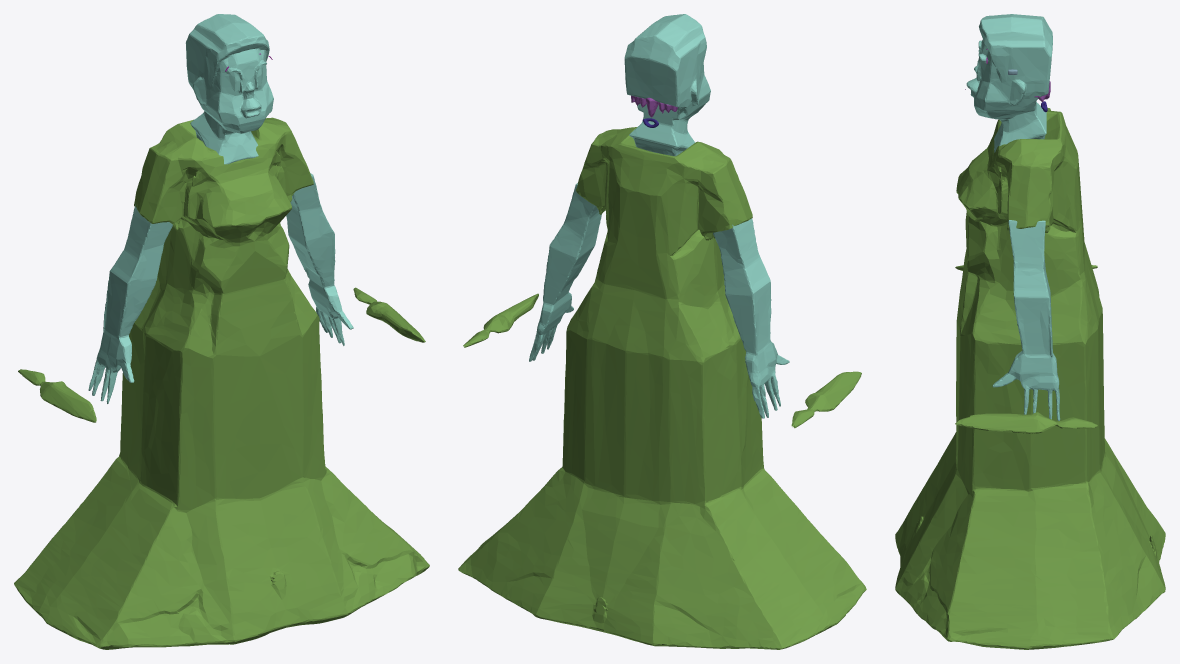
The picture shows the model from 3 angles, left to right: view 1: azimuth 30°, elevation 25°; view 2: azimuth 150°, elevation 25°; view 3: azimuth 270°, elevation 25°; orthographic projection. The views are drawn at different scales.
Parts seen in each view (by area): view 1: world; view 2: world; view 3: world.
Part boxes in pixels (x1,y1,x2,y2): world: (14, 14, 429, 649); world: (458, 14, 866, 649); world: (895, 14, 1165, 649).
Bounding box in the file's own units: 1.3 × 1.98 × 0.8822.
